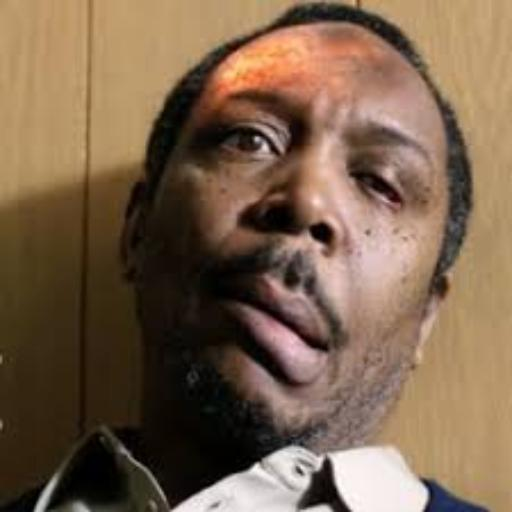left_eye: (350, 174, 404, 209)
left_lip_corner: (313, 335, 346, 363)
right_eye: (217, 128, 283, 160)
